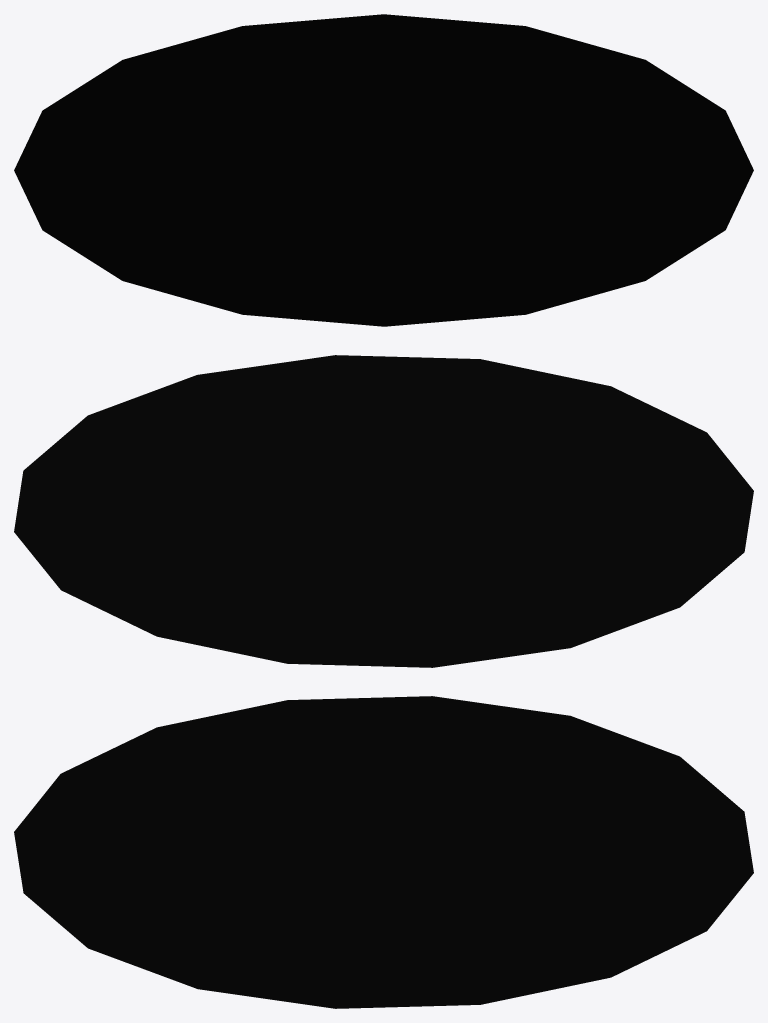
3 views of the same model, one above another, from view 1: azimuth 30°, elevation 25°; view 2: azimuth 150°, elevation 25°; view 3: azimuth 270°, elevation 25° (orthographic).
Visible parts, largest first — view 1: Joint_0_Object_0; view 2: Joint_0_Object_0; view 3: Joint_0_Object_0.
Boxes of the visible parts, x1,y1,x2,y2 form: Joint_0_Object_0: (14, 14, 753, 326); Joint_0_Object_0: (14, 355, 753, 667); Joint_0_Object_0: (14, 696, 753, 1008).
Size of the model in its own units: 445 by 0 by 445.
1 material, 1 textured.
